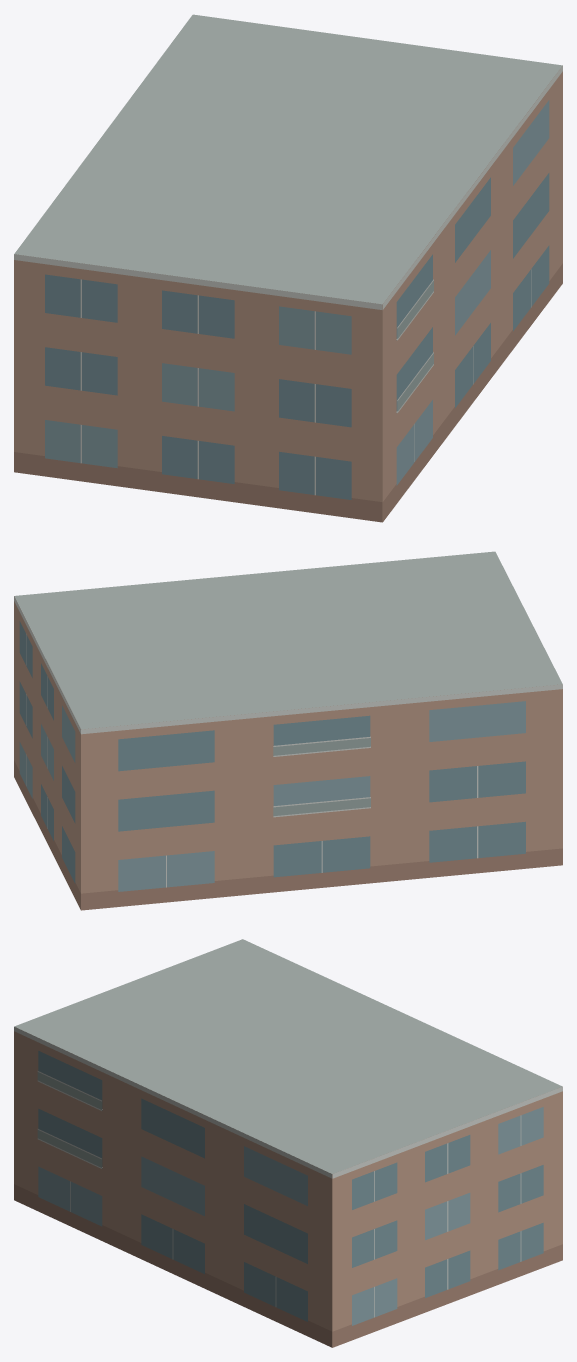
File: survey-upis-32716441.glb
The picture shows the model from 3 angles, top to bottom: view 1: azimuth 30°, elevation 25°; view 2: azimuth 150°, elevation 25°; view 3: azimuth 270°, elevation 25°; orthographic projection. The views are drawn at different scales.
Parts seen in each view (by area): view 1: survey-upis-32716441.tmp; view 2: survey-upis-32716441.tmp; view 3: survey-upis-32716441.tmp.
Part boxes in pixels (x1,y1,x2,y2): survey-upis-32716441.tmp: (14, 14, 562, 522); survey-upis-32716441.tmp: (14, 551, 562, 910); survey-upis-32716441.tmp: (14, 939, 562, 1347).
Size of the model in its own units: 26.57 by 9.15 by 26.21.
